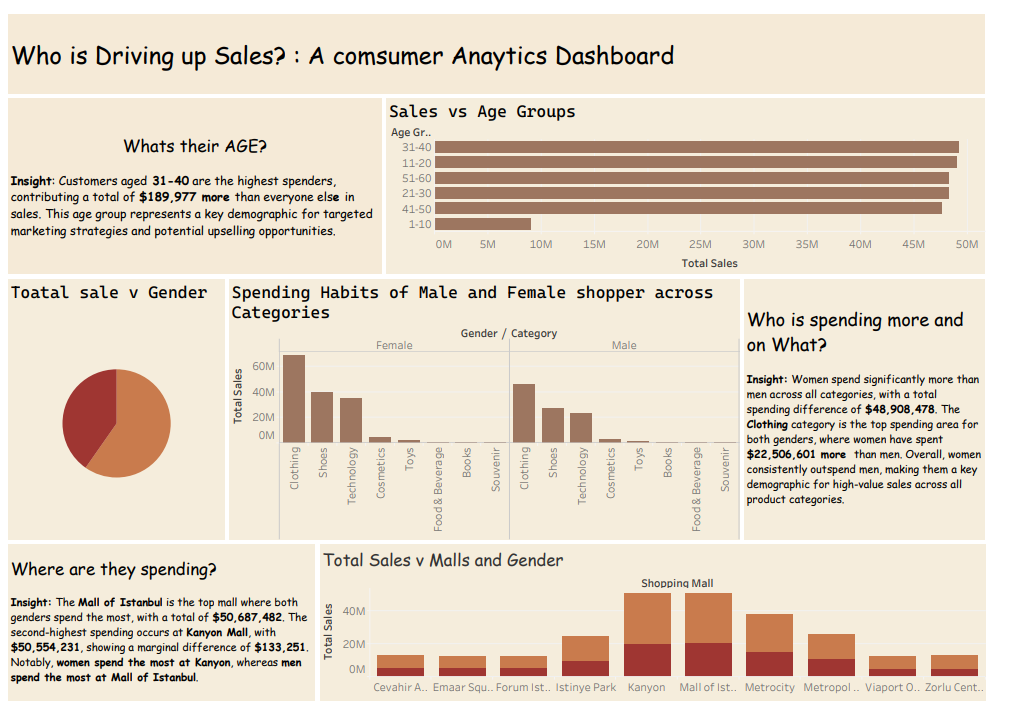

Layout of this report page (visuals, bound fields, positions):
{"tool":"tableau","page":{"name":"Dashboard 3","canvas":[1654,1169],"ordinal":2},"visuals":[{"type":"text","box":[8,8,1638,140]},{"type":"text","box":[8,148,630.7,301]},{"type":"worksheet","title":"Sheet 5","mark":"Automatic","rows":["Age (bin)"],"cols":["Calculation_652459000120393728"],"box":[638.7,148,1007.3,301]},{"type":"worksheet","title":"Sheet 7","mark":"Pie","box":[8,449,369.1,443]},{"type":"worksheet","title":"Sheet 9","mark":"Automatic","rows":["Calculation_652459000120393728"],"cols":["gender","category"],"box":[377.1,449,859.3,443]},{"type":"text","box":[1236.5,449,409.5,443]},{"type":"text","box":[8,892,520,269]},{"type":"worksheet","title":"Sheet 10","mark":"Automatic","rows":["Calculation_652459000120393728"],"cols":["shopping_mall"],"box":[528,892,1118,269]}]}

Visuals, with their boxes in screenshot pixels (x1, y1, x2, y2), scaled from the page's 1654x1169 canvas onto the 1009x721 screenshot:
text: [5, 5, 1004, 91]
text: [5, 91, 390, 277]
"Sheet 5" worksheet: [390, 91, 1004, 277]
"Sheet 7" worksheet (Pie marks): [5, 277, 230, 550]
"Sheet 9" worksheet: [230, 277, 754, 550]
text: [754, 277, 1004, 550]
text: [5, 550, 322, 716]
"Sheet 10" worksheet: [322, 550, 1004, 716]
